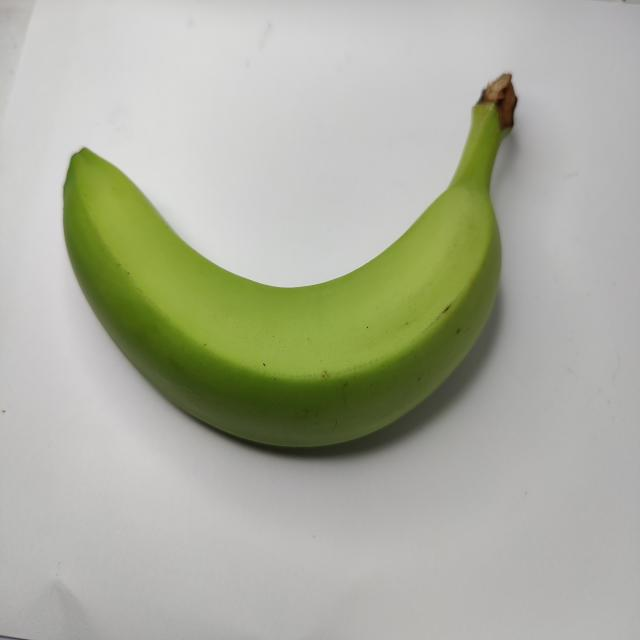raw: (38, 75, 541, 455)
